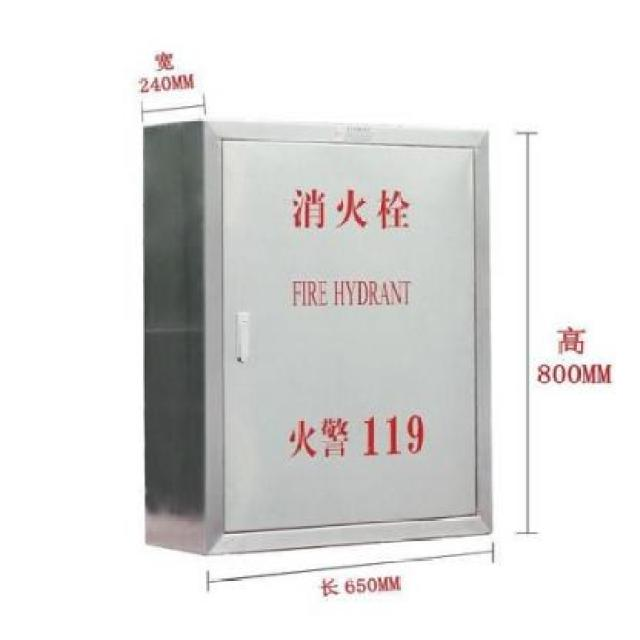firehydrant: (135, 112, 497, 564)
